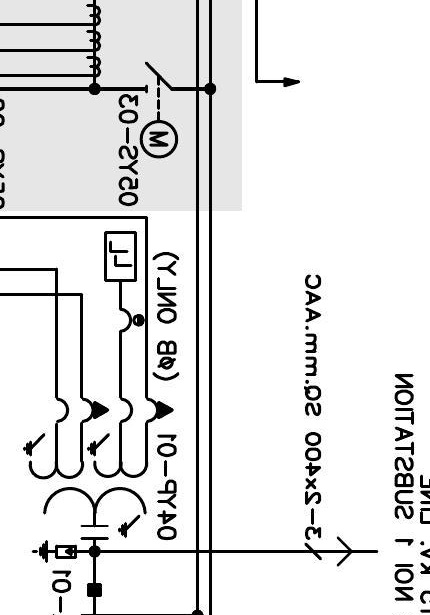115_1way_ds_w_motor: (139, 61, 179, 160)
115_cvt_1p: (22, 395, 174, 541)
115_la: (31, 539, 77, 564)
LL: (103, 231, 137, 282)
